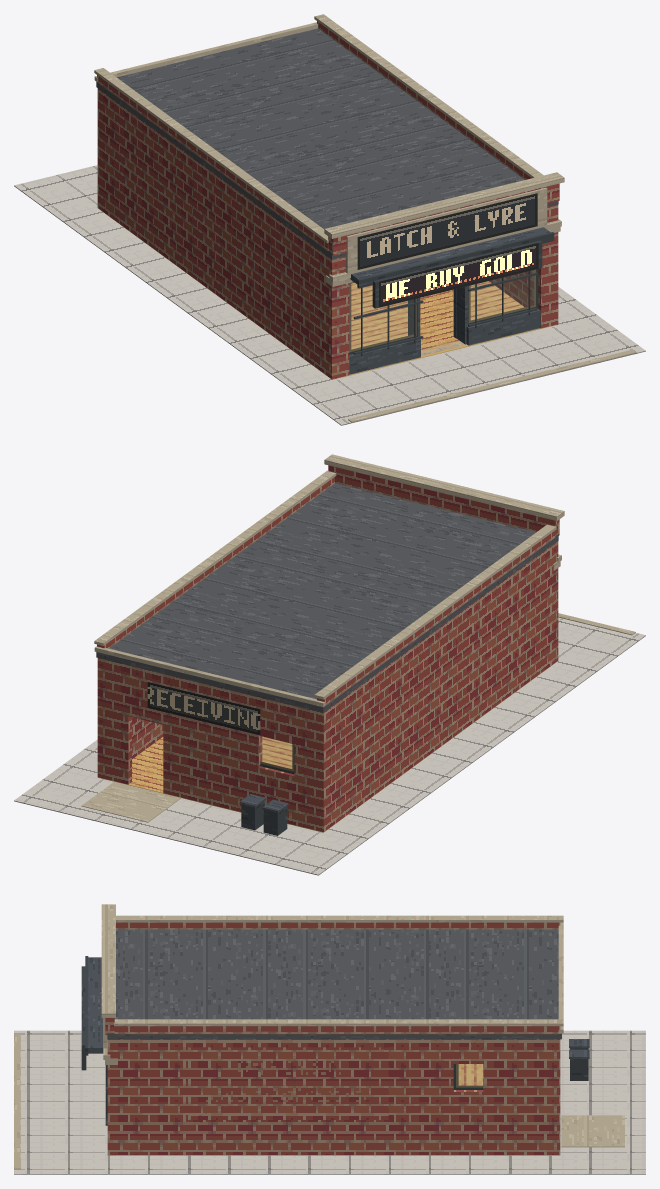
Rendered from latch-and-lyre-2000-far.glb.
3 views of the same model, one above another, from view 1: azimuth 30°, elevation 25°; view 2: azimuth 150°, elevation 25°; view 3: azimuth 270°, elevation 25° (orthographic). The views are drawn at different scales.
Parts seen in each view (by area): view 1: shell, lot, fixed_interior, sign_name, display_window_west, display_window_east, window_bars_west, window_bars_east; view 2: shell, lot, fixed_interior; view 3: shell, lot, fixed_interior.
Part boxes in pixels (x1=…): shell: x1=94, y1=14, x2=564, y2=379; lot: x1=14, y1=165, x2=645, y2=425; fixed_interior: x1=98, y1=208, x2=556, y2=379; sign_name: x1=357, y1=193, x2=537, y2=269; display_window_west: x1=349, y1=281, x2=417, y2=354; display_window_east: x1=468, y1=269, x2=538, y2=324; window_bars_west: x1=353, y1=287, x2=423, y2=355; window_bars_east: x1=468, y1=271, x2=537, y2=327; shell: x1=94, y1=454, x2=564, y2=832; lot: x1=14, y1=613, x2=645, y2=875; fixed_interior: x1=97, y1=661, x2=557, y2=832; shell: x1=81, y1=904, x2=563, y2=1155; lot: x1=14, y1=1030, x2=645, y2=1174; fixed_interior: x1=107, y1=1064, x2=560, y2=1155.
Bounding box in the file's own units: 10.5 × 4.92 × 19.55.
10 materials, 10 textured.
